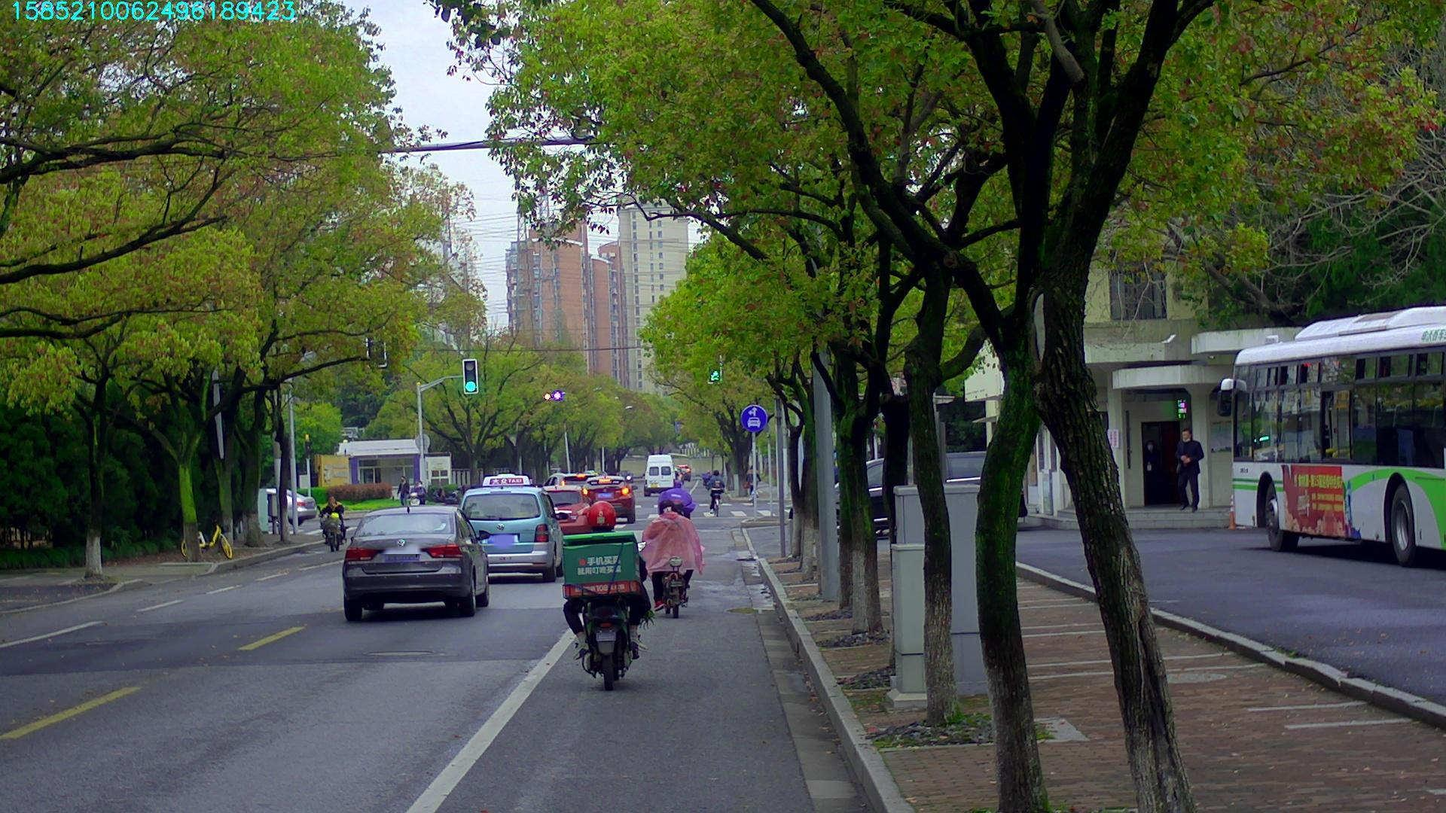green: (463, 359, 477, 393), (707, 349, 721, 382)
